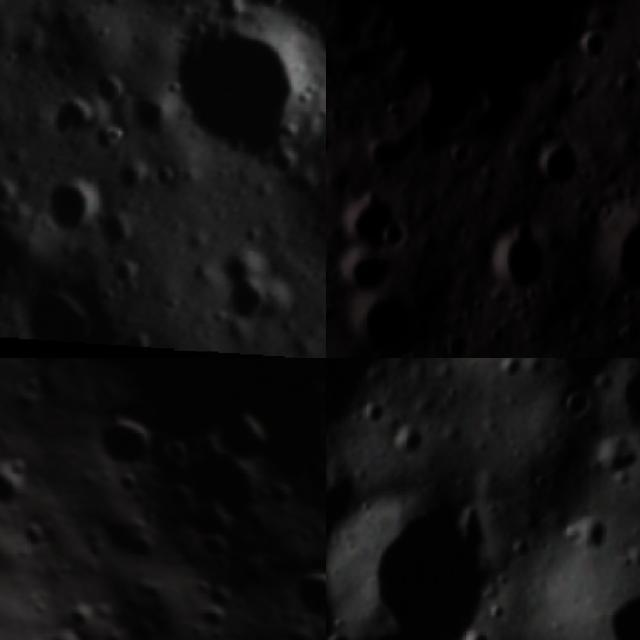crater: (326, 477, 519, 640), (146, 0, 325, 167), (164, 429, 276, 544), (4, 290, 104, 358), (204, 401, 282, 484), (86, 403, 162, 478), (473, 229, 545, 296), (595, 203, 640, 308), (33, 170, 92, 248), (593, 358, 640, 447), (528, 358, 631, 396), (278, 556, 326, 636), (353, 290, 410, 353), (35, 86, 94, 137), (114, 526, 164, 580), (532, 135, 572, 201), (332, 200, 394, 242), (0, 454, 36, 520), (330, 254, 396, 289), (187, 595, 234, 640), (199, 578, 244, 624), (60, 596, 106, 640), (189, 530, 233, 574), (568, 515, 614, 556), (256, 478, 299, 521), (393, 426, 431, 462), (16, 518, 50, 557), (35, 620, 89, 640), (532, 277, 569, 305), (94, 72, 122, 106), (608, 73, 638, 104), (574, 33, 604, 64), (164, 440, 191, 472), (368, 143, 401, 168), (437, 332, 468, 358), (379, 227, 408, 250), (458, 628, 496, 640), (342, 114, 364, 134), (565, 87, 587, 105), (619, 344, 640, 358), (576, 166, 587, 192)
